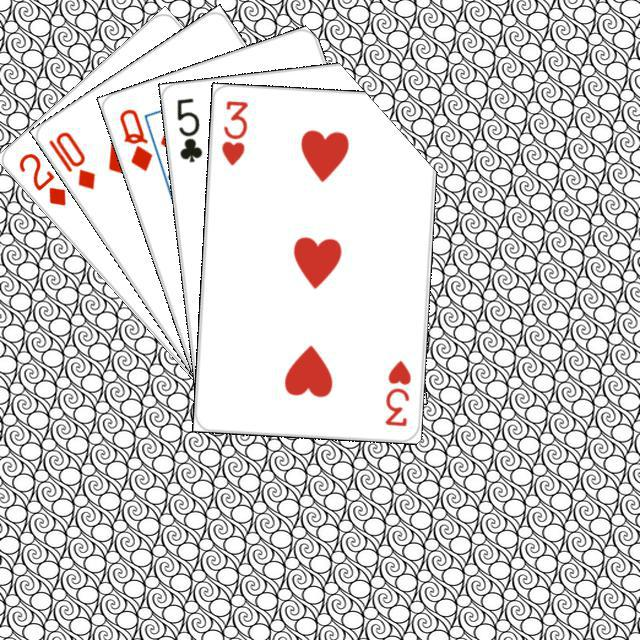10d: (43, 126, 98, 192)
2d: (13, 147, 68, 208)
3h: (379, 355, 413, 428), (217, 95, 249, 167)
5c: (171, 93, 204, 164)
Qd: (114, 103, 154, 173)
